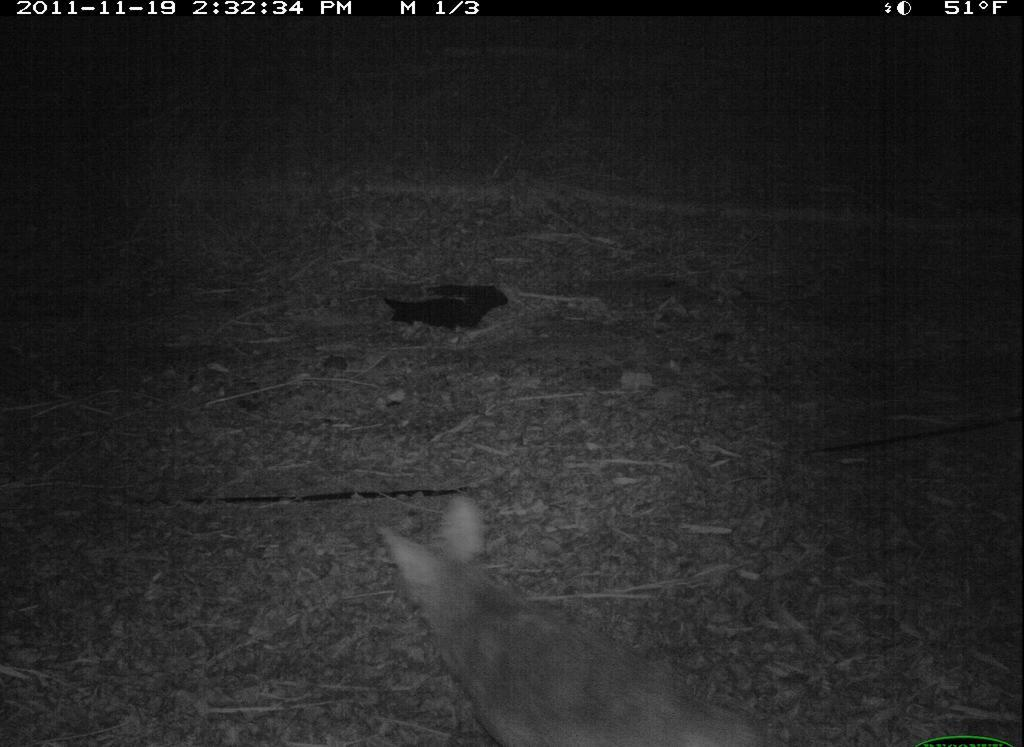coyote: (372, 487, 769, 745)
